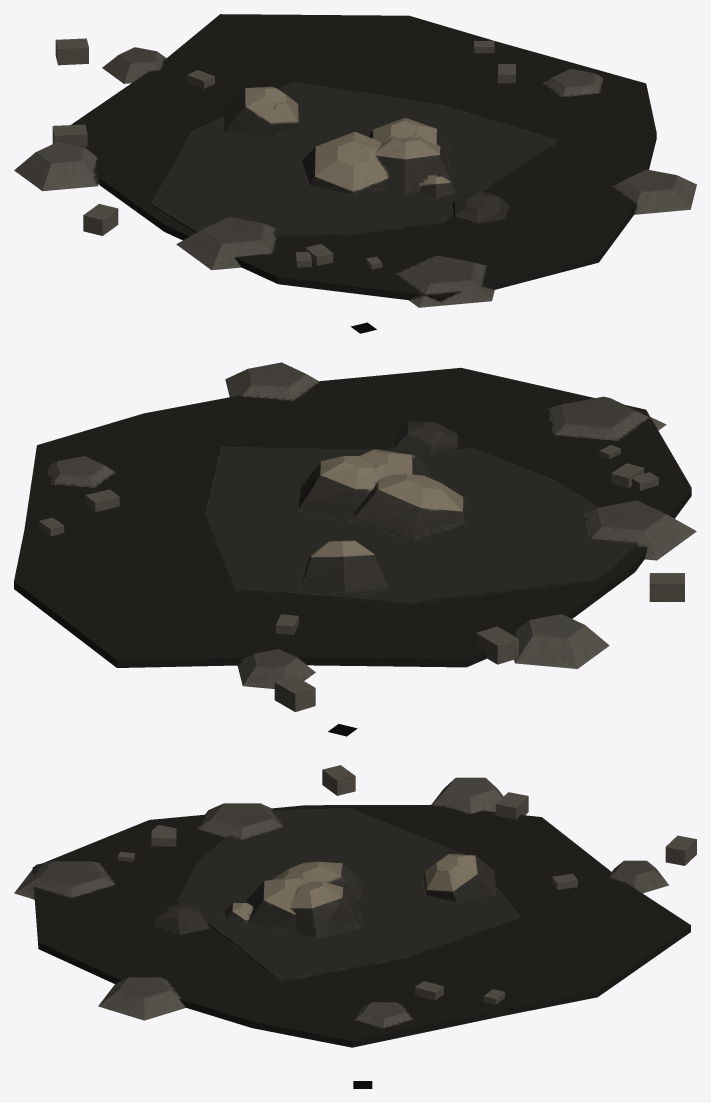
The model's file is deposit_2.fbx.
3 views of the same model, one above another, from view 1: azimuth 30°, elevation 25°; view 2: azimuth 150°, elevation 25°; view 3: azimuth 270°, elevation 25° (orthographic). The views are drawn at different scales.
Visible parts, largest first — view 1: base_bar; view 2: base_bar; view 3: base_bar.
Boxes of the visible parts, x1,y1,x2,y2 form: base_bar: (14, 14, 696, 307); base_bar: (14, 362, 696, 711); base_bar: (14, 765, 696, 1047).
Size of the model in its own units: 667 by 244 by 727.
Materials: 2 (2 with a texture image).
